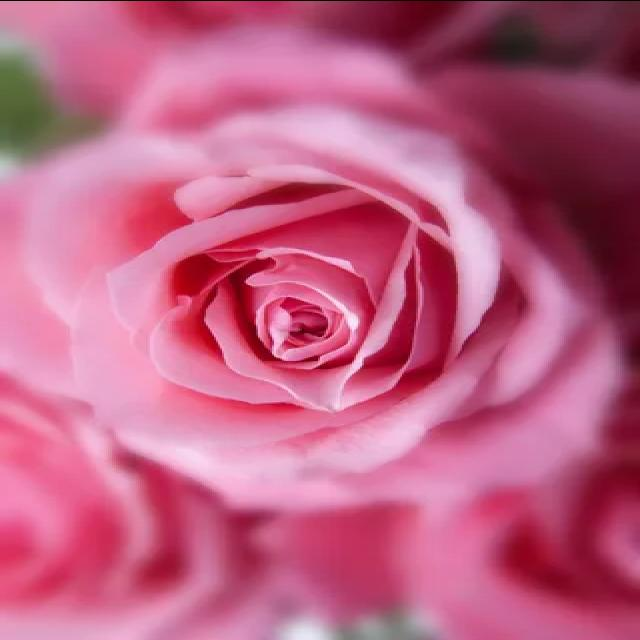rose: (13, 45, 629, 513)
